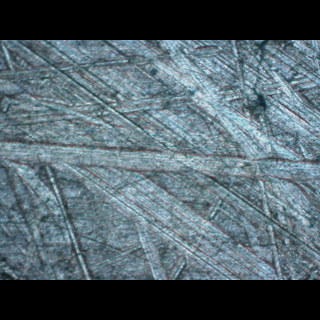d: (0, 40, 316, 189), (74, 156, 291, 276), (216, 65, 286, 142)
